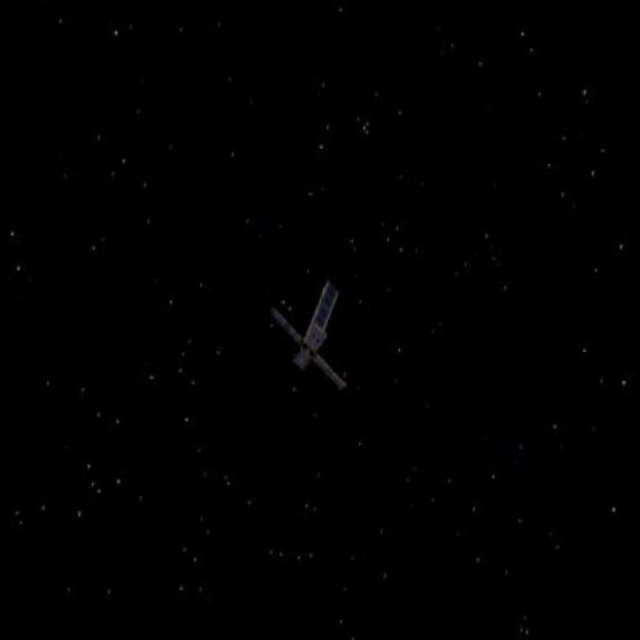medium_debris: (249, 267, 368, 406)
